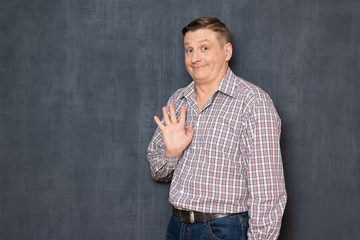Hello: (151, 101, 200, 157)
